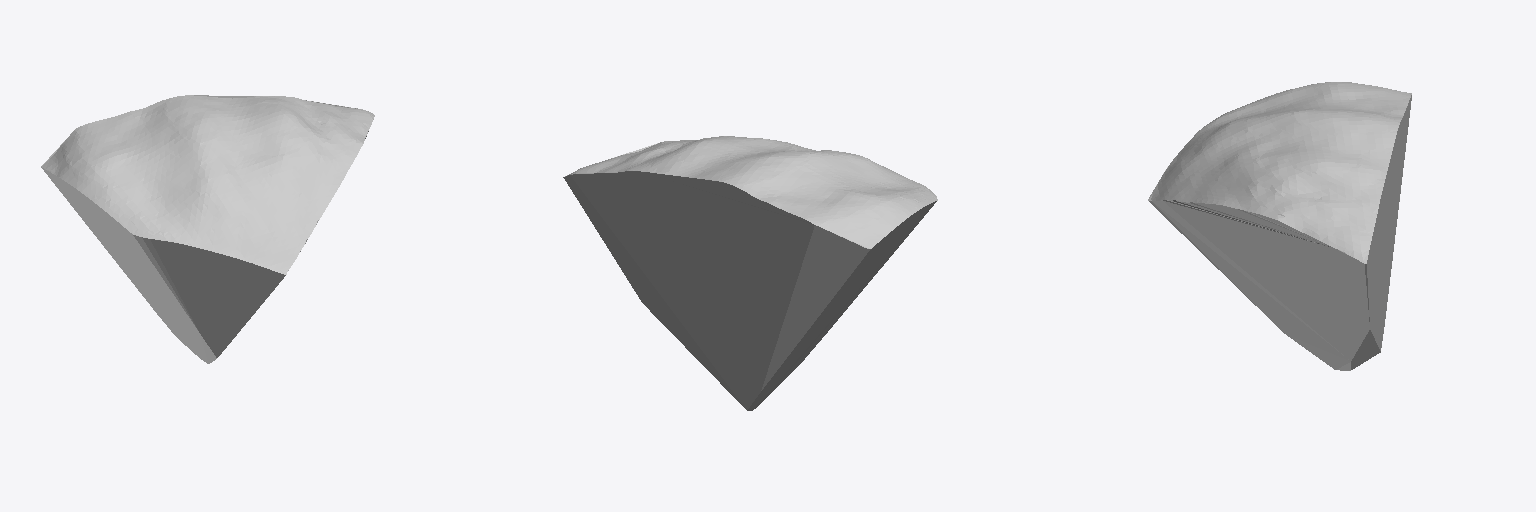
File: low_cell_003.obj
The picture shows the model from 3 angles: view 1: azimuth 30°, elevation 25°; view 2: azimuth 150°, elevation 25°; view 3: azimuth 270°, elevation 25°; orthographic projection.
Parts seen in each view (by area): view 1: low_cell.003_low_cell.002; view 2: low_cell.003_low_cell.002; view 3: low_cell.003_low_cell.002.
Part boxes in pixels (bbox=[...]): low_cell.003_low_cell.002: bbox=[41, 95, 374, 363]; low_cell.003_low_cell.002: bbox=[563, 136, 937, 410]; low_cell.003_low_cell.002: bbox=[1148, 82, 1411, 370].
Size of the model in its own units: 0.9632 by 0.7113 by 0.685.